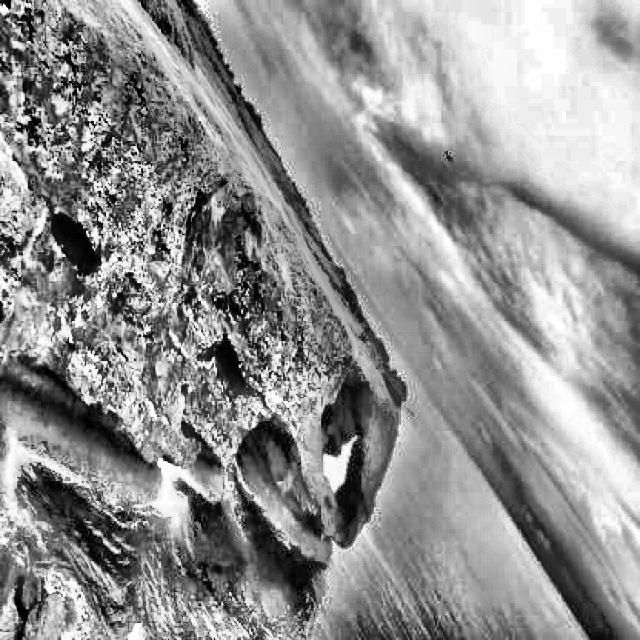V22: (443, 148, 454, 164)
